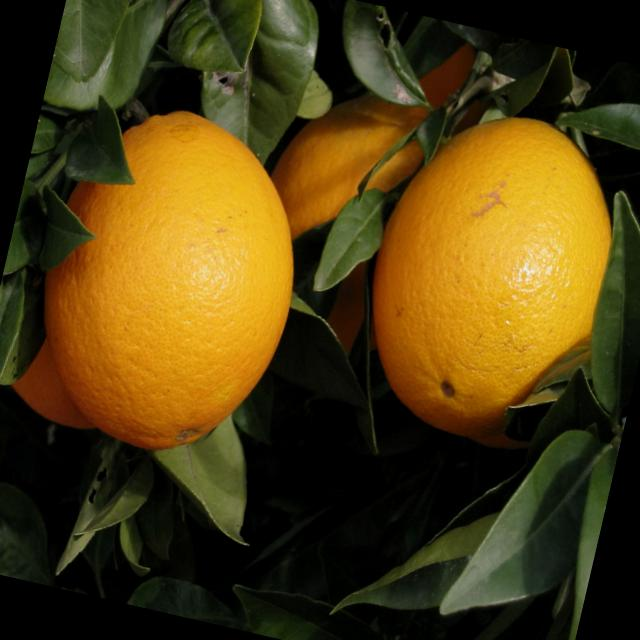orange: (7, 80, 334, 493), (333, 83, 638, 478), (217, 61, 463, 392)
